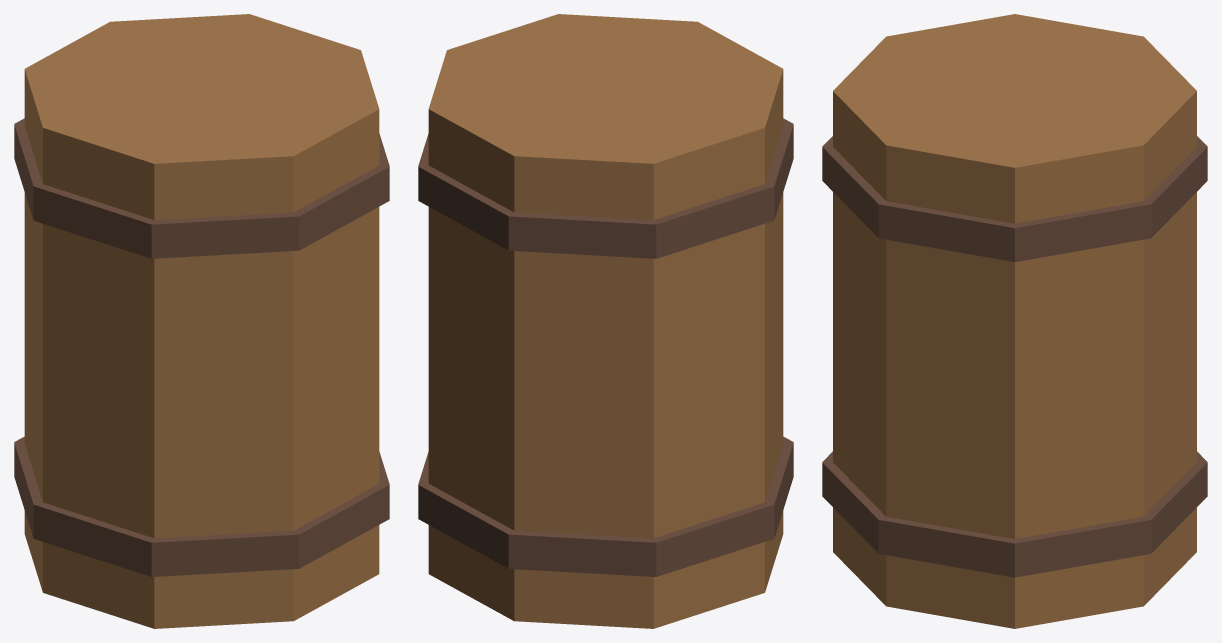
The model's file is PR_Barrel.fbx.
3 views of the same model, side by side, from view 1: azimuth 30°, elevation 25°; view 2: azimuth 150°, elevation 25°; view 3: azimuth 270°, elevation 25° (orthographic).
Parts seen in each view (by area): view 1: PR_Barrel, PR_Barrel_Hoop0.15, PR_Barrel_Hoop0.8; view 2: PR_Barrel, PR_Barrel_Hoop0.15, PR_Barrel_Hoop0.8; view 3: PR_Barrel, PR_Barrel_Hoop0.8, PR_Barrel_Hoop0.15.
Part boxes in pixels (x1,y1,x2,y2): PR_Barrel: (24,14,379,628); PR_Barrel_Hoop0.15: (14,436,389,576); PR_Barrel_Hoop0.8: (14,118,389,258); PR_Barrel: (428,14,783,628); PR_Barrel_Hoop0.15: (418,436,793,576); PR_Barrel_Hoop0.8: (418,118,793,258); PR_Barrel: (833,14,1196,628); PR_Barrel_Hoop0.8: (822,136,1207,261); PR_Barrel_Hoop0.15: (822,451,1207,577).
Size of the model in its own units: 0.72 by 0.72 by 0.95.
